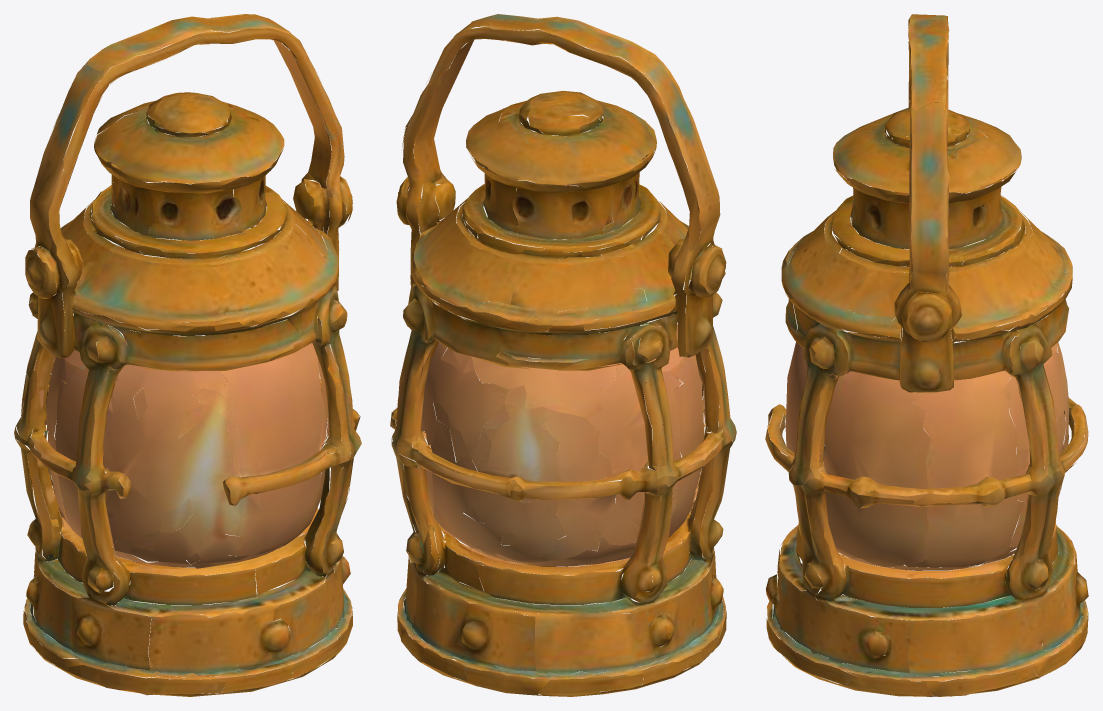
Rendered from lantern.glb.
3 views of the same model, side by side, from view 1: azimuth 30°, elevation 25°; view 2: azimuth 150°, elevation 25°; view 3: azimuth 270°, elevation 25° (orthographic). The views are drawn at different scales.
Parts seen in each view (by area): view 1: textured_mesh.obj; view 2: textured_mesh.obj; view 3: textured_mesh.obj.
Part boxes in pixels (left/top/right/bottom): textured_mesh.obj: left=14, top=14, right=361, bottom=696; textured_mesh.obj: left=390, top=14, right=736, bottom=696; textured_mesh.obj: left=765, top=14, right=1088, bottom=696.
Bounding box in the file's own units: 0.5552 × 1 × 0.4961.
1 material, 1 textured.
